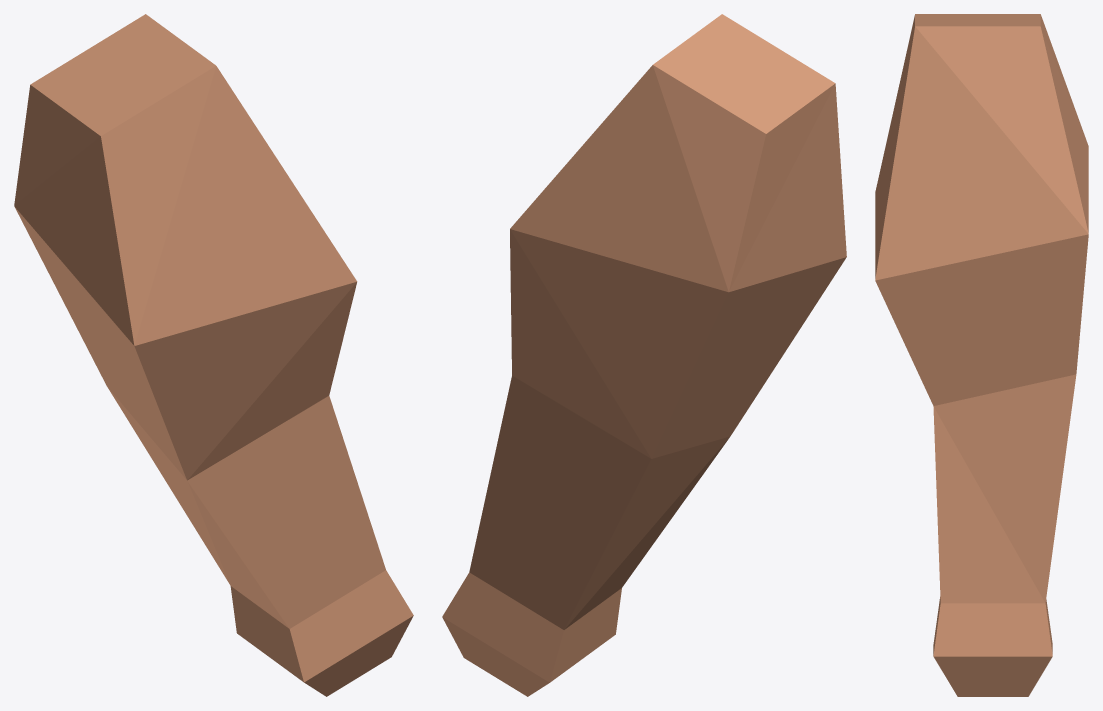
The model's file is left_lower_arm.dae.
3 renders of one model, left to right at view 1: azimuth 30°, elevation 25°; view 2: azimuth 150°, elevation 25°; view 3: azimuth 270°, elevation 25°, orthographic. The views are drawn at different scales.
Parts seen in each view (by area): view 1: left_lower_arm; view 2: left_lower_arm; view 3: left_lower_arm.
Boxes of the visible parts, x1,y1,x2,y2 form: left_lower_arm: (14, 14, 413, 696); left_lower_arm: (442, 14, 846, 696); left_lower_arm: (875, 14, 1088, 696).
Bounding box in the file's own units: 0.1823 × 0.1175 × 0.3673.
